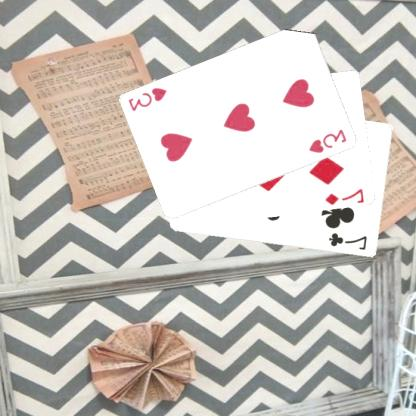3H: (308, 126, 350, 155), (128, 85, 170, 113)
7C: (328, 231, 370, 252)
7D: (324, 186, 367, 206)
